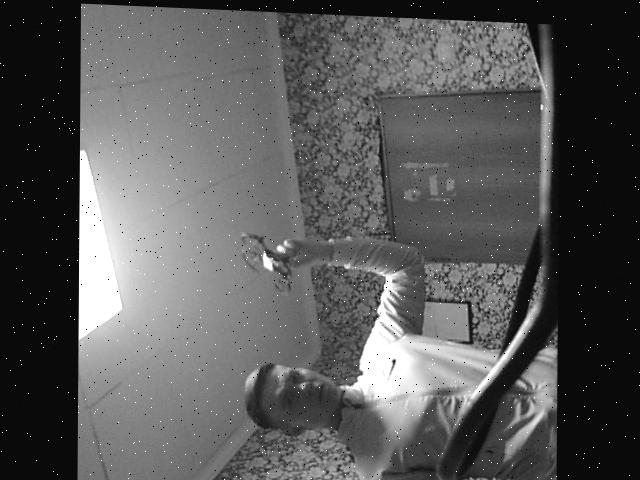drone: (223, 221, 302, 307)
